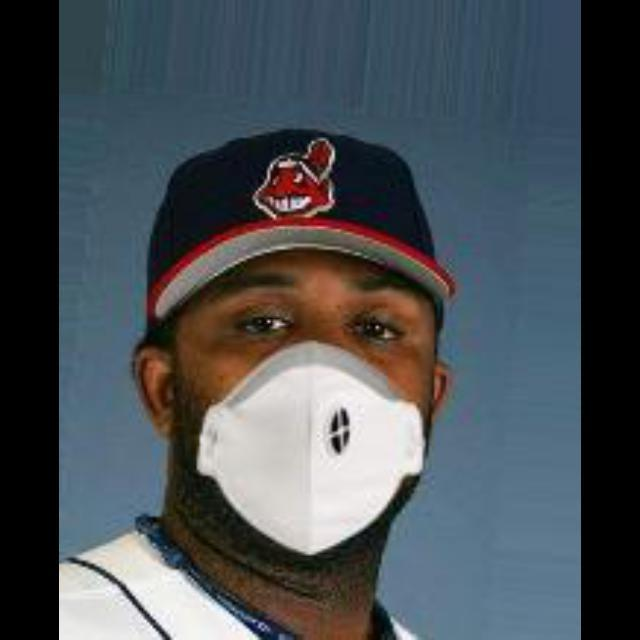suspicion: (120, 132, 488, 548)
